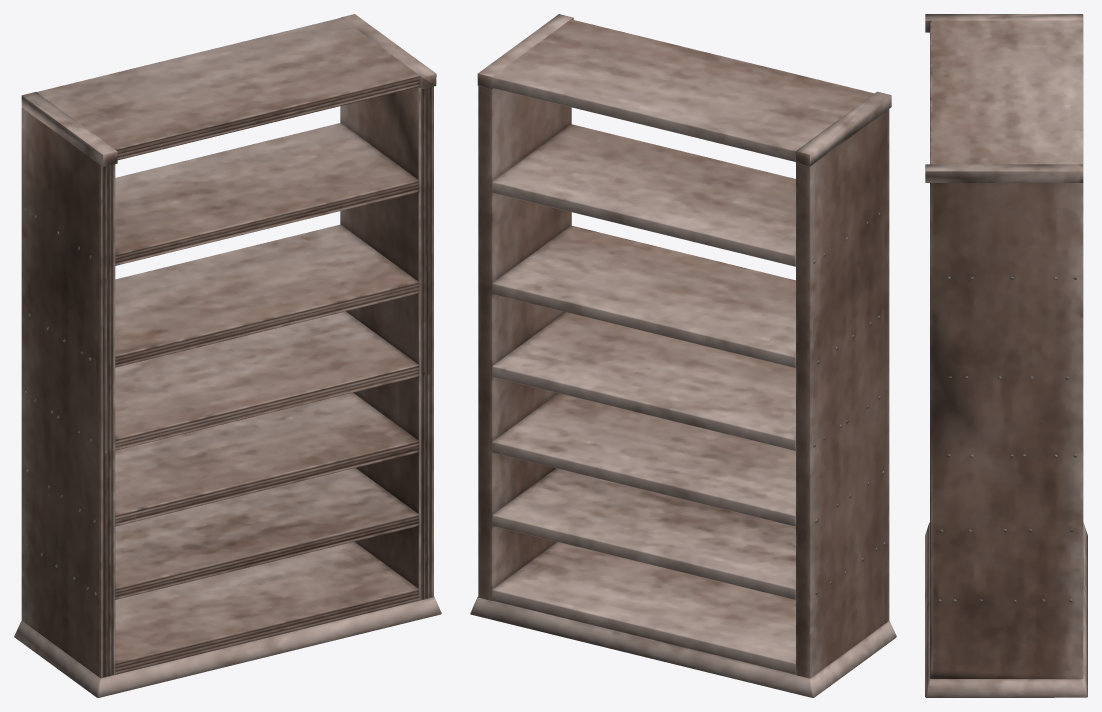
The model's file is wooden_bookshelf_worn.glb.
3 renders of one model, left to right at view 1: azimuth 30°, elevation 25°; view 2: azimuth 150°, elevation 25°; view 3: azimuth 270°, elevation 25°, orthographic. The views are drawn at different scales.
Parts seen in each view (by area): view 1: wooden_bookshelf_worn; view 2: wooden_bookshelf_worn; view 3: wooden_bookshelf_worn.
Boxes of the visible parts, bbox=[...] form: wooden_bookshelf_worn: bbox=[14, 14, 441, 697]; wooden_bookshelf_worn: bbox=[470, 14, 896, 697]; wooden_bookshelf_worn: bbox=[925, 14, 1087, 697].
Bounding box in the file's own units: 1.37 × 2.06 × 0.5814.
1 material, 1 textured.
